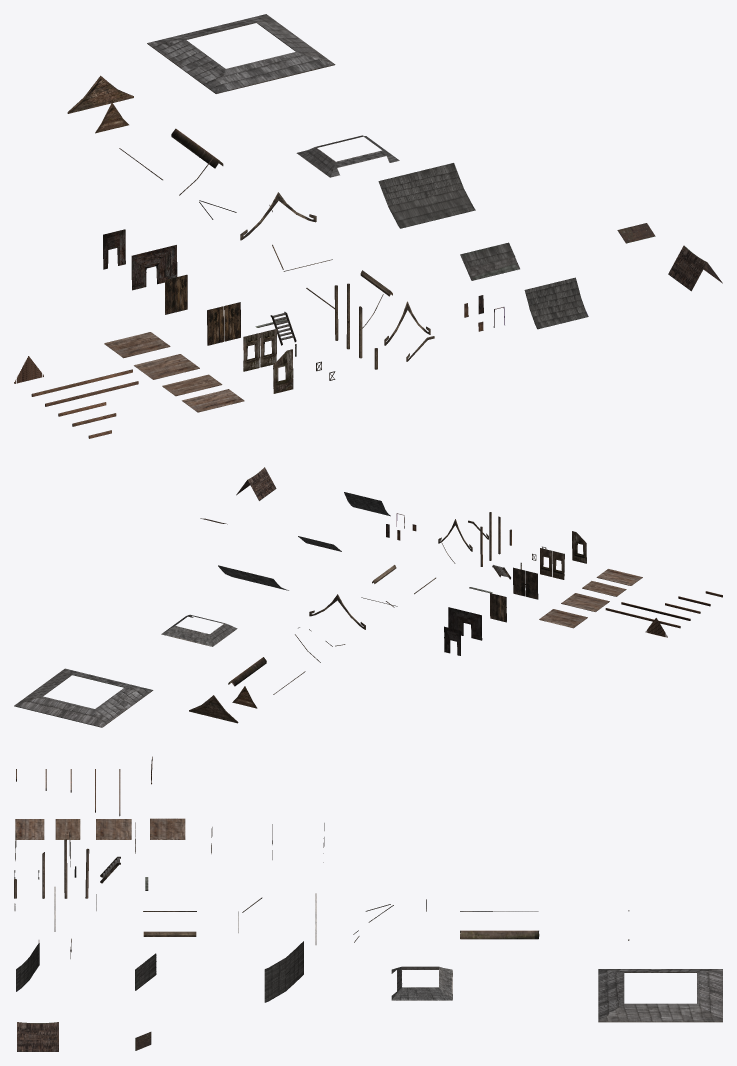
File: FinalizedFBX.fbx
The picture shows the model from 3 angles, top to bottom: view 1: azimuth 30°, elevation 25°; view 2: azimuth 150°, elevation 25°; view 3: azimuth 270°, elevation 25°; orthographic projection. The views are drawn at different scales.
Visible parts, largest first — view 1: Cube.012, Plane.015, Plane.013, Plane.016, Plane.009, Cube.007, Plane.070, Cube.024, Cube.001, Cube.016, Plane.005, Cube.003 (+2 smaller); view 2: Cube.012, Cube.007, Plane.013, Plane.010, Plane.070, Cube.024, Cube.001, Cube.016, Plane.015, Cube.003, Plane.005; view 3: Cube.012, Plane.015, Cube.007, Plane.070, Cube.028, Cube.001, Cube.016, Cube.003, Plane.013, Cube.002.
Boxes of the visible parts, left/top/right/bottom form: Cube.012: left=147, top=14, right=335, bottom=93; Plane.015: left=378, top=163, right=475, bottom=228; Plane.013: left=460, top=255, right=588, bottom=329; Plane.016: left=460, top=242, right=519, bottom=280; Plane.009: left=131, top=245, right=177, bottom=290; Cube.007: left=296, top=135, right=399, bottom=177; Plane.070: left=668, top=245, right=722, bottom=291; Cube.024: left=67, top=75, right=133, bottom=113; Cube.001: left=104, top=332, right=170, bottom=358; Cube.016: left=134, top=354, right=199, bottom=379; Plane.005: left=164, top=274, right=187, bottom=314; Cube.003: left=182, top=389, right=244, bottom=412; Cube.012: left=14, top=668, right=153, bottom=727; Cube.007: left=161, top=614, right=237, bottom=646; Plane.013: left=298, top=492, right=390, bottom=551; Plane.010: left=448, top=607, right=481, bottom=640; Plane.070: left=236, top=467, right=276, bottom=500; Cube.024: left=189, top=695, right=238, bottom=723; Cube.001: left=539, top=609, right=587, bottom=628; Cube.016: left=561, top=593, right=609, bottom=611; Plane.015: left=218, top=565, right=288, bottom=590; Cube.003: left=596, top=569, right=642, bottom=585; Plane.005: left=490, top=593, right=506, bottom=622; Cube.012: left=598, top=969, right=722, bottom=1022; Plane.015: left=264, top=941, right=303, bottom=1002; Cube.007: left=391, top=966, right=452, bottom=1000; Plane.070: left=17, top=1022, right=58, bottom=1051; Cube.028: left=460, top=930, right=539, bottom=939; Cube.001: left=150, top=818, right=185, bottom=839; Cube.016: left=96, top=819, right=131, bottom=839; Cube.003: left=15, top=819, right=44, bottom=839; Plane.013: left=16, top=943, right=156, bottom=991; Cube.002: left=55, top=819, right=80, bottom=839.
Bounding box in the file's own units: 8208 × 807 × 8774.
